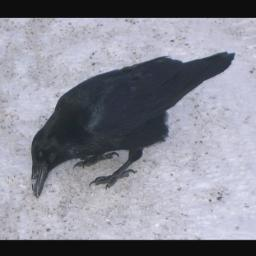Crow: (32, 52, 238, 198)
